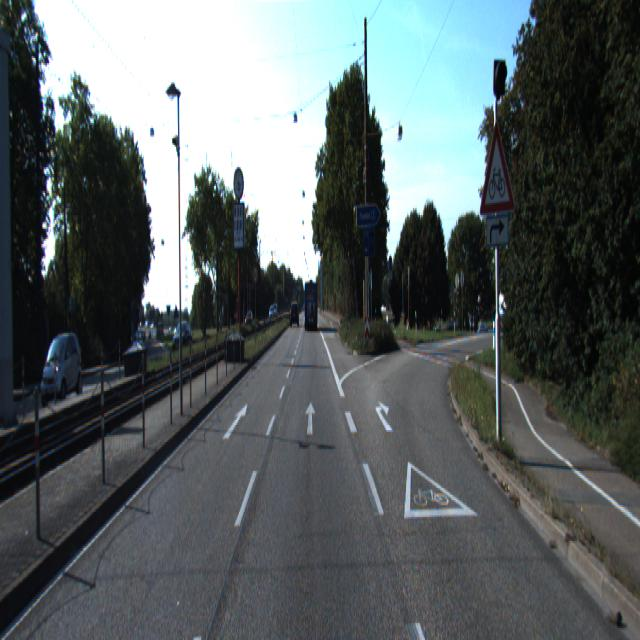Car: (40, 331, 86, 406), (304, 280, 318, 331)
